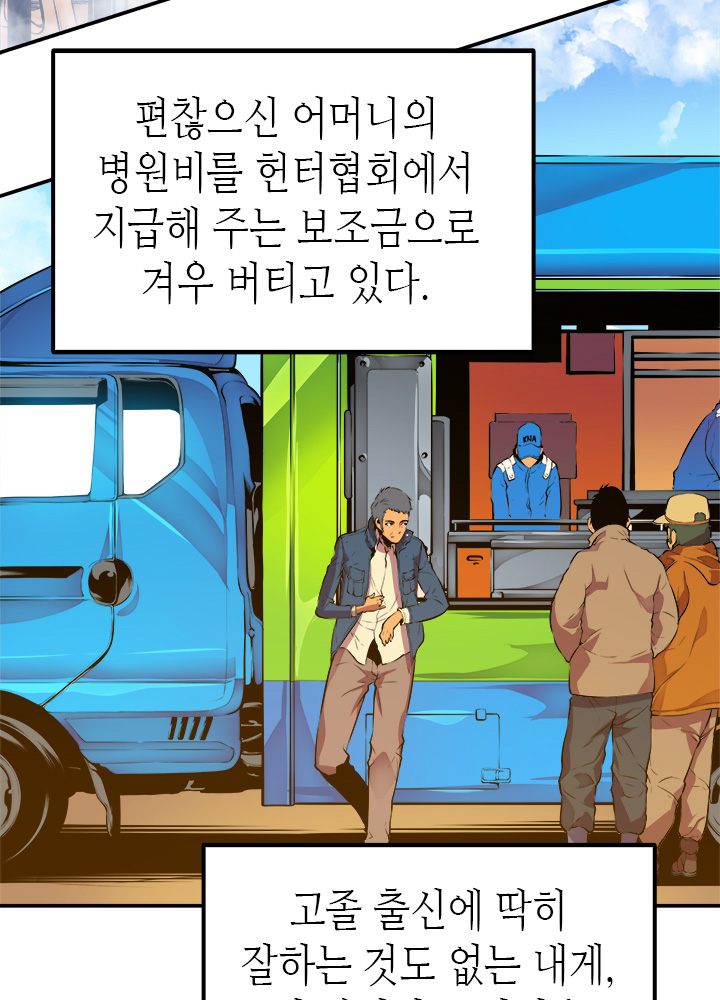dialog box: (23, 13, 562, 382), (172, 817, 689, 1000)
text: (69, 69, 508, 330), (225, 859, 632, 1000)
